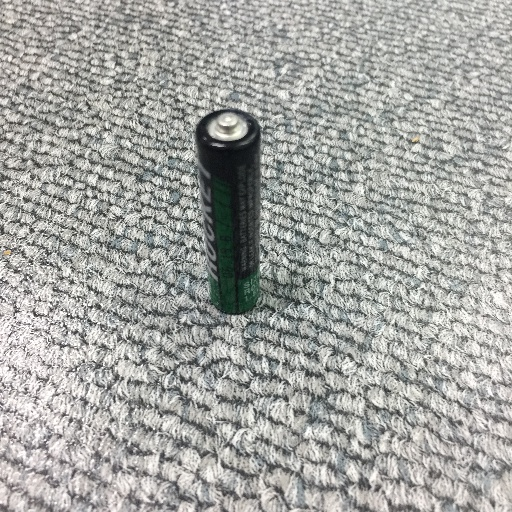Battery_0: (189, 102, 274, 323)
